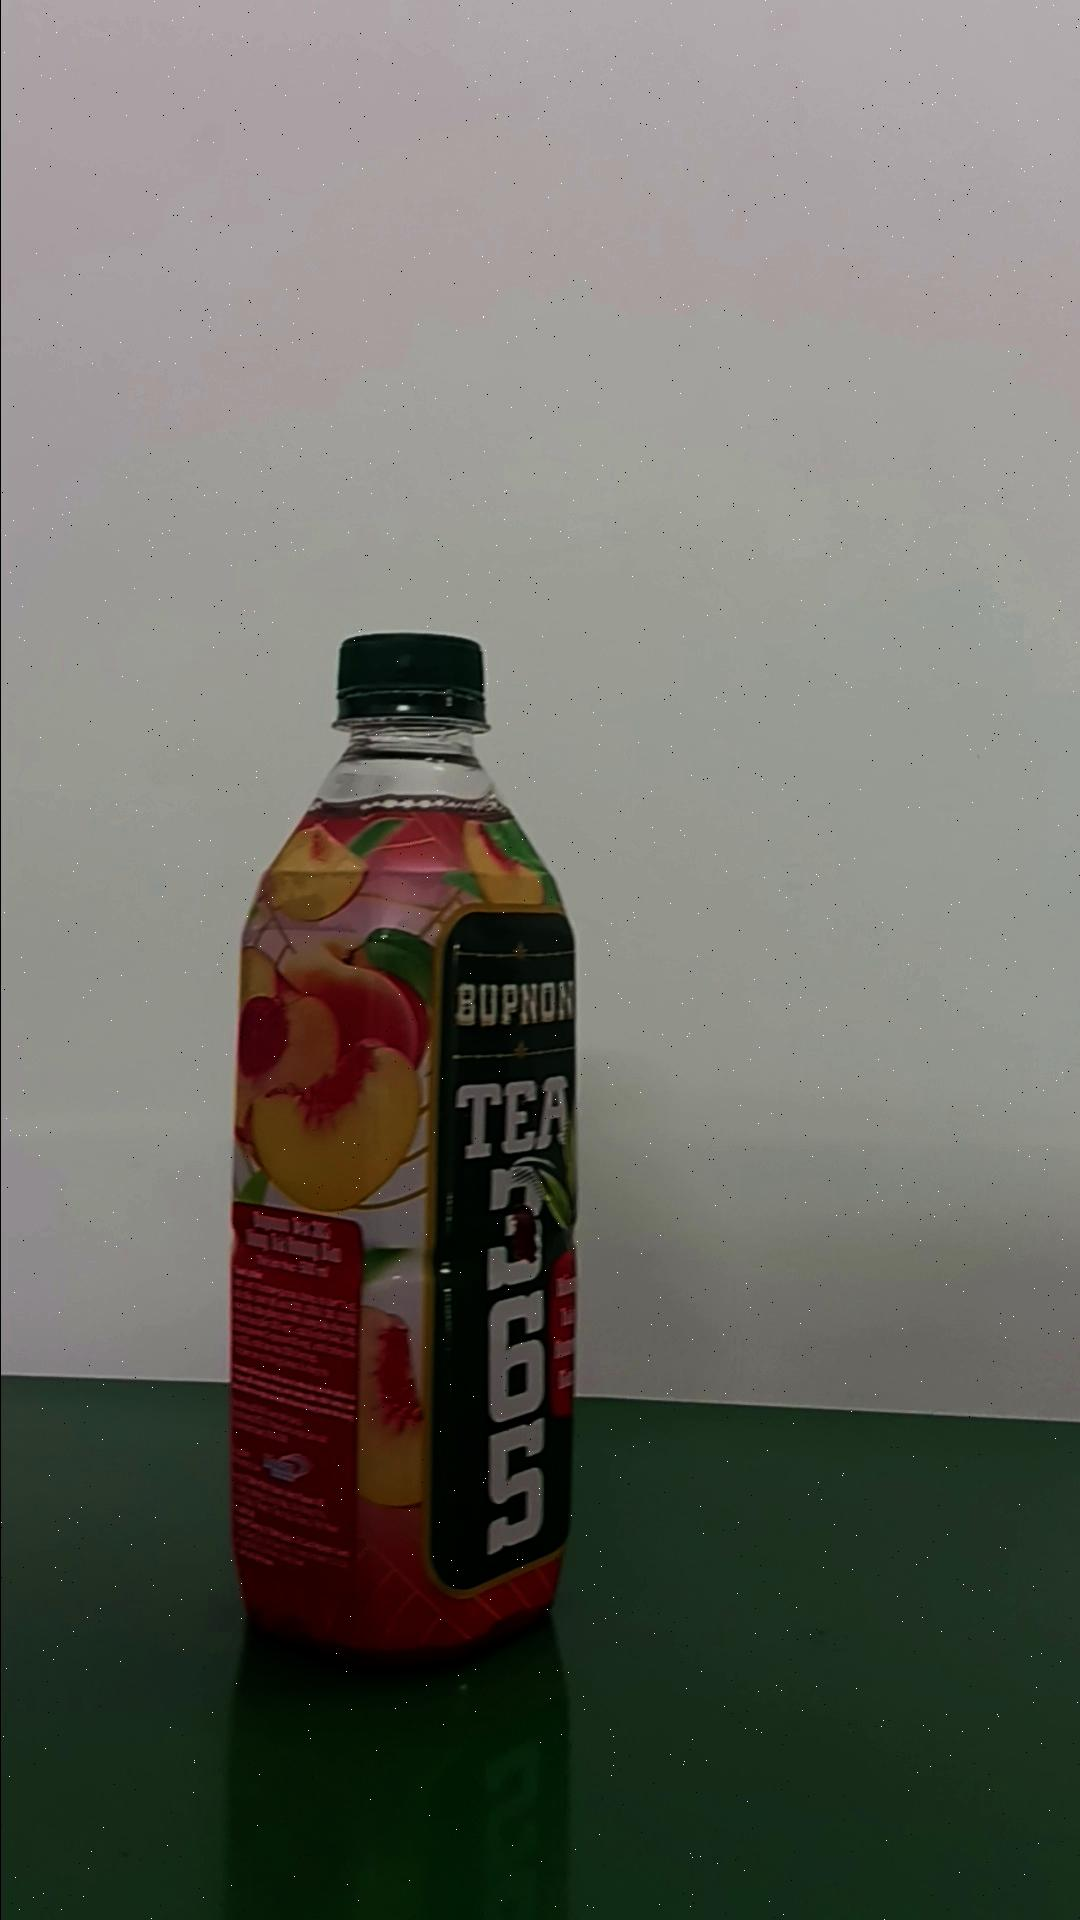loi rach va lap chai: (228, 636, 578, 1672)
